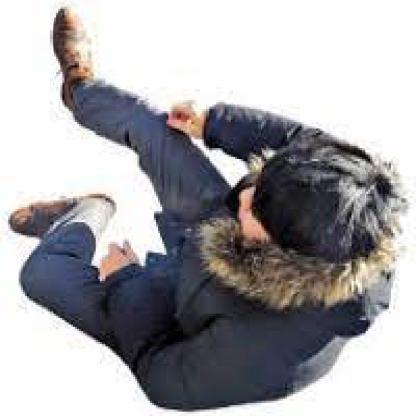Fall_Down: (7, 4, 402, 413)
